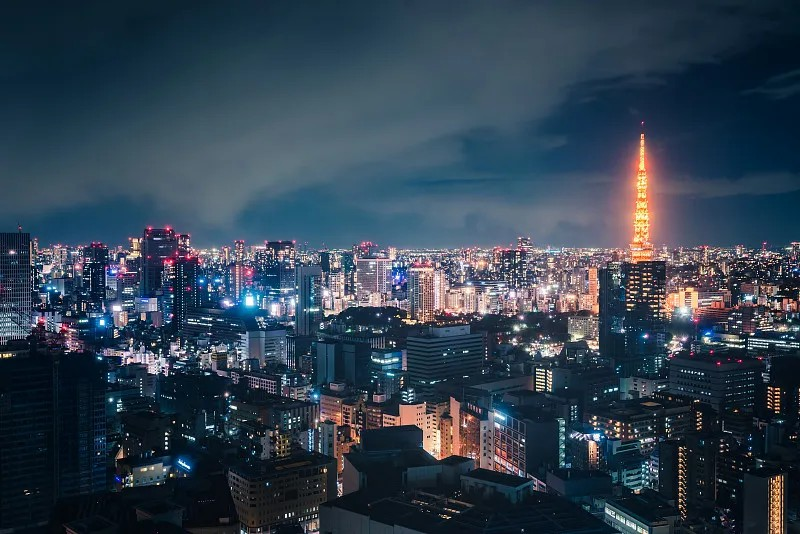Tokyo: (631, 118, 651, 244)
